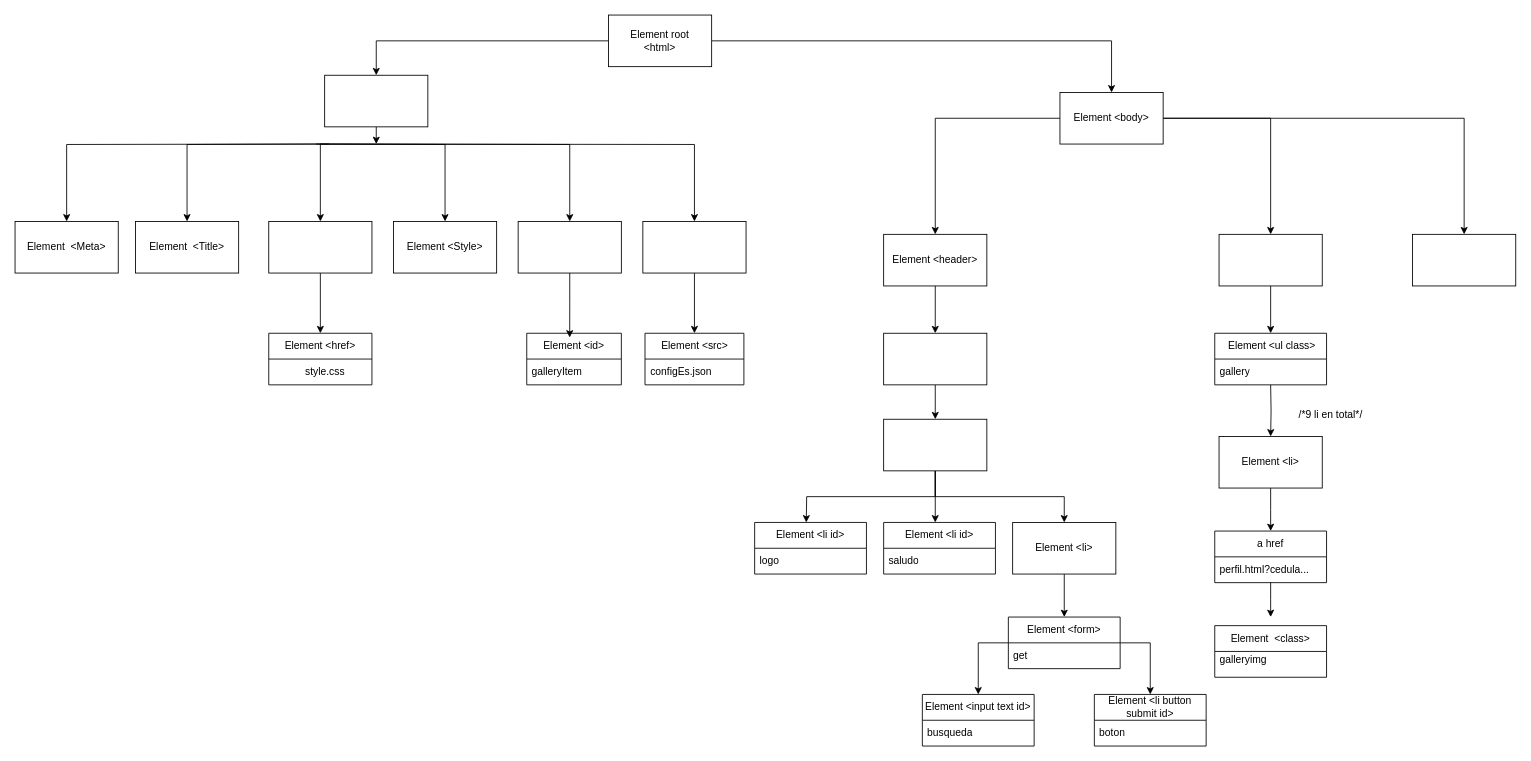
The diagram is 1531 pixels wide and 761 high, and some of its shapes have lost their labels. The shapes that lost their labels are listed below. From the top down, each one's centre as x and y in pixels, then its label:
At pixel 376 100: "Element <head>".
At pixel 320 247: "Element <Link>".
At pixel 569 247: "Element <Template>".
At pixel 694 247: "Element <Script>".
At pixel 1270 259: "Element <section>".
At pixel 1464 259: "Element <footer>".
At pixel 935 358: "Element <nav>".
At pixel 935 444: "Element <ul>".
